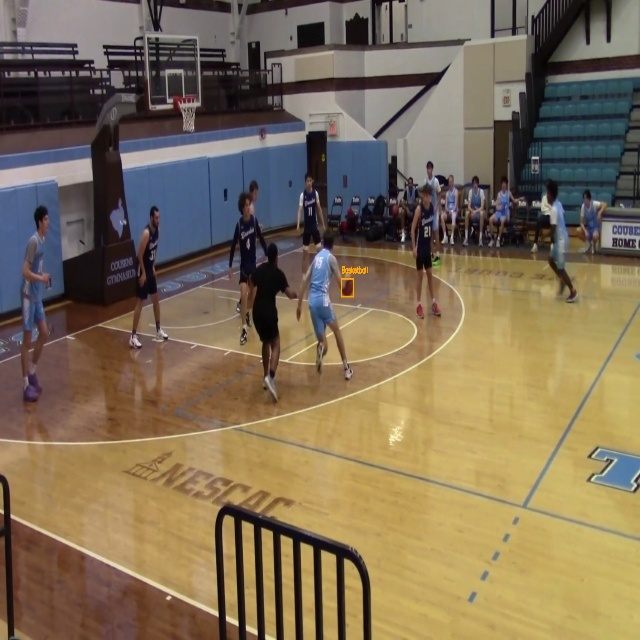Basketball: (341, 279, 354, 297)
